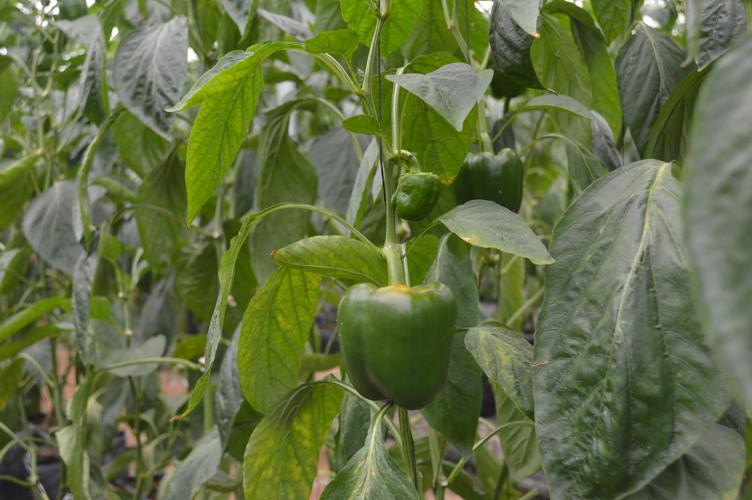BellPepper: (330, 277, 461, 414), (453, 142, 530, 222), (391, 167, 444, 223)
